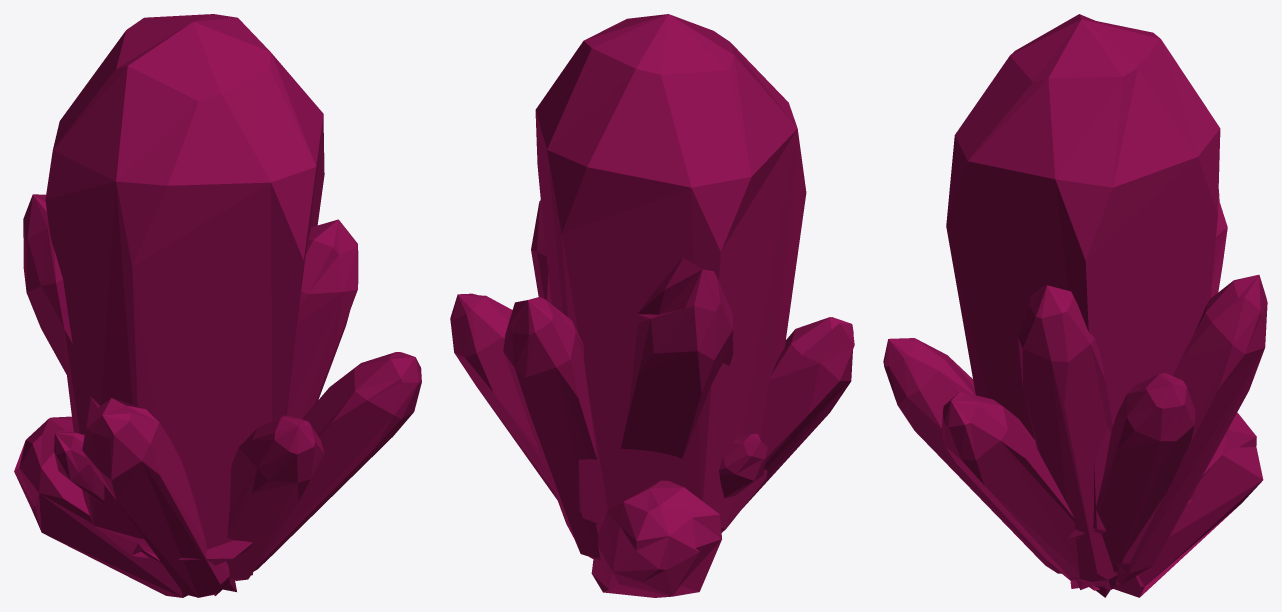
The model's file is Cristal.FBX.
3 views of the same model, side by side, from view 1: azimuth 30°, elevation 25°; view 2: azimuth 150°, elevation 25°; view 3: azimuth 270°, elevation 25° (orthographic). The views are drawn at different scales.
Visible parts, largest first — view 1: Cylinder001; view 2: Cylinder001; view 3: Cylinder001.
Boxes of the visible parts, box(x1,y1,x2,y2) form: Cylinder001: box(14, 14, 421, 597); Cylinder001: box(450, 14, 854, 597); Cylinder001: box(883, 14, 1267, 597).
Bounding box in the file's own units: 350 × 370 × 599.
